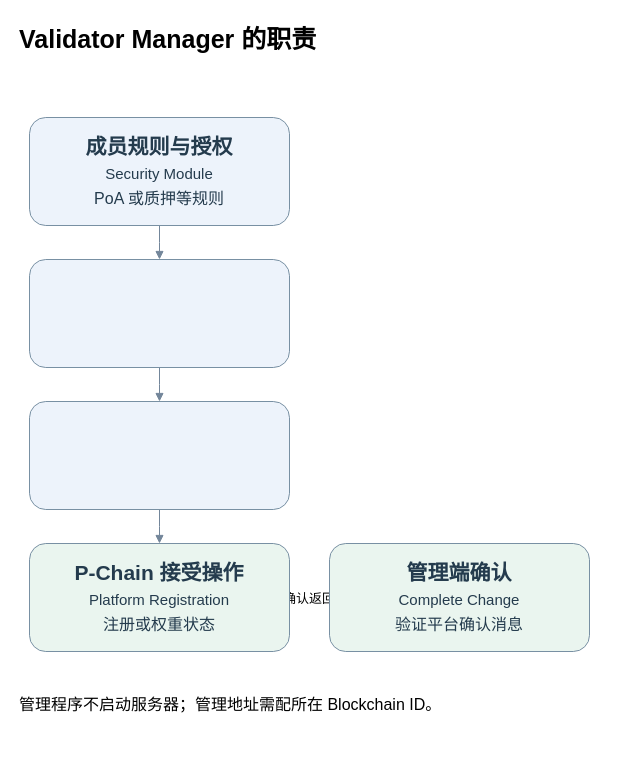
Image size: 618x775. Some labels were removed from this diagram. The centre of each missing label's shape, as x and y in pixels:
管理端发起变更 Initiate Change 依合约版本: [159,313]
认证管理消息 Authenticated Message 签名聚合与投递: [159,455]
